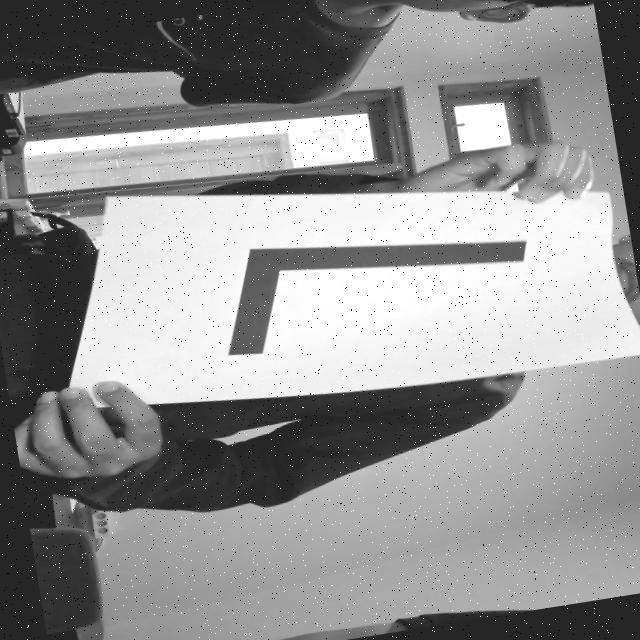l: (188, 173, 560, 380)
